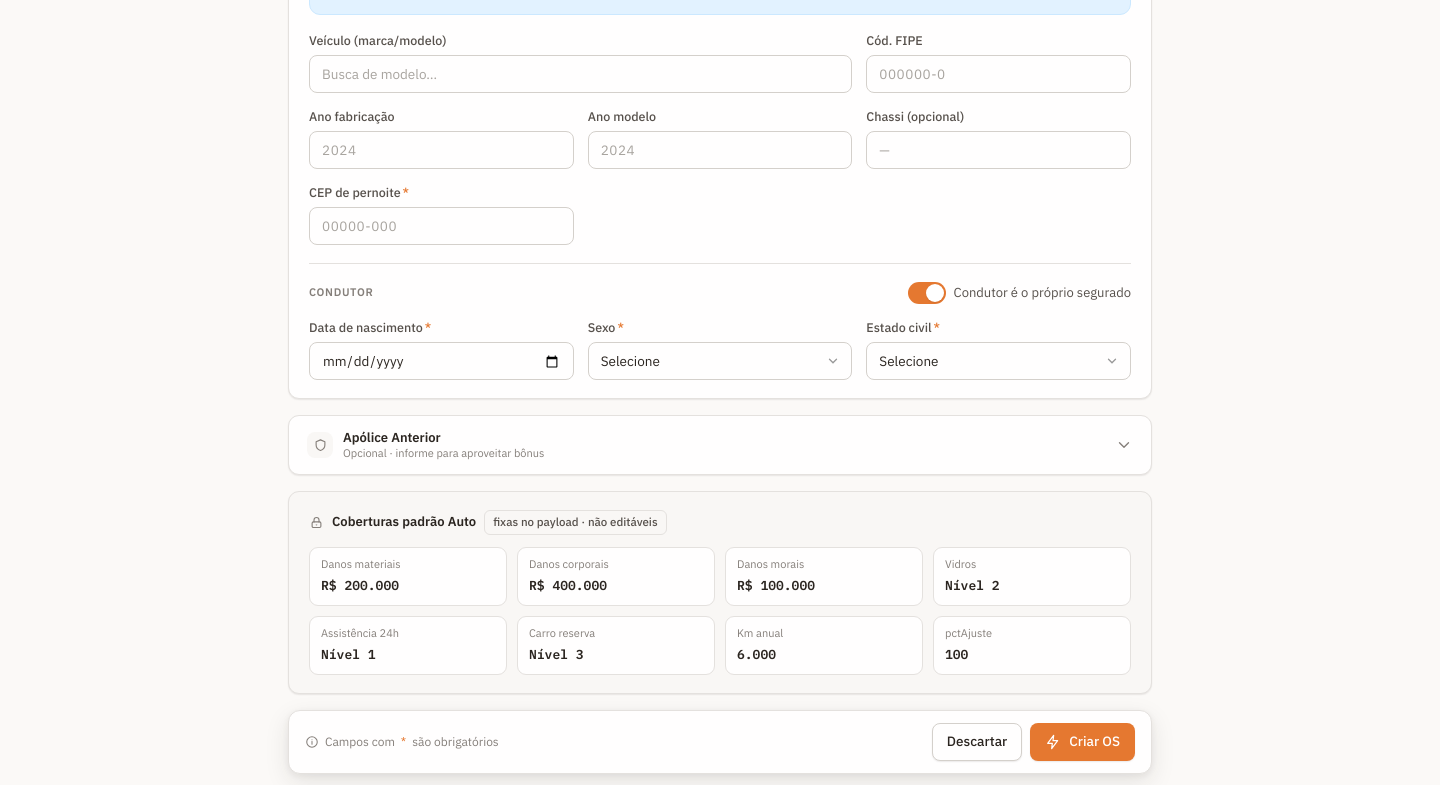
Test case: NovaCotacao › validação bloqueia submit e destaca campos obrigatórios
This screenshot has width=1440, height=785.
(page scrolled)
Click the button "Criar OS" at (1083, 742), box top-left (1030, 723), bottom-right (1135, 761)
(page scrolled)
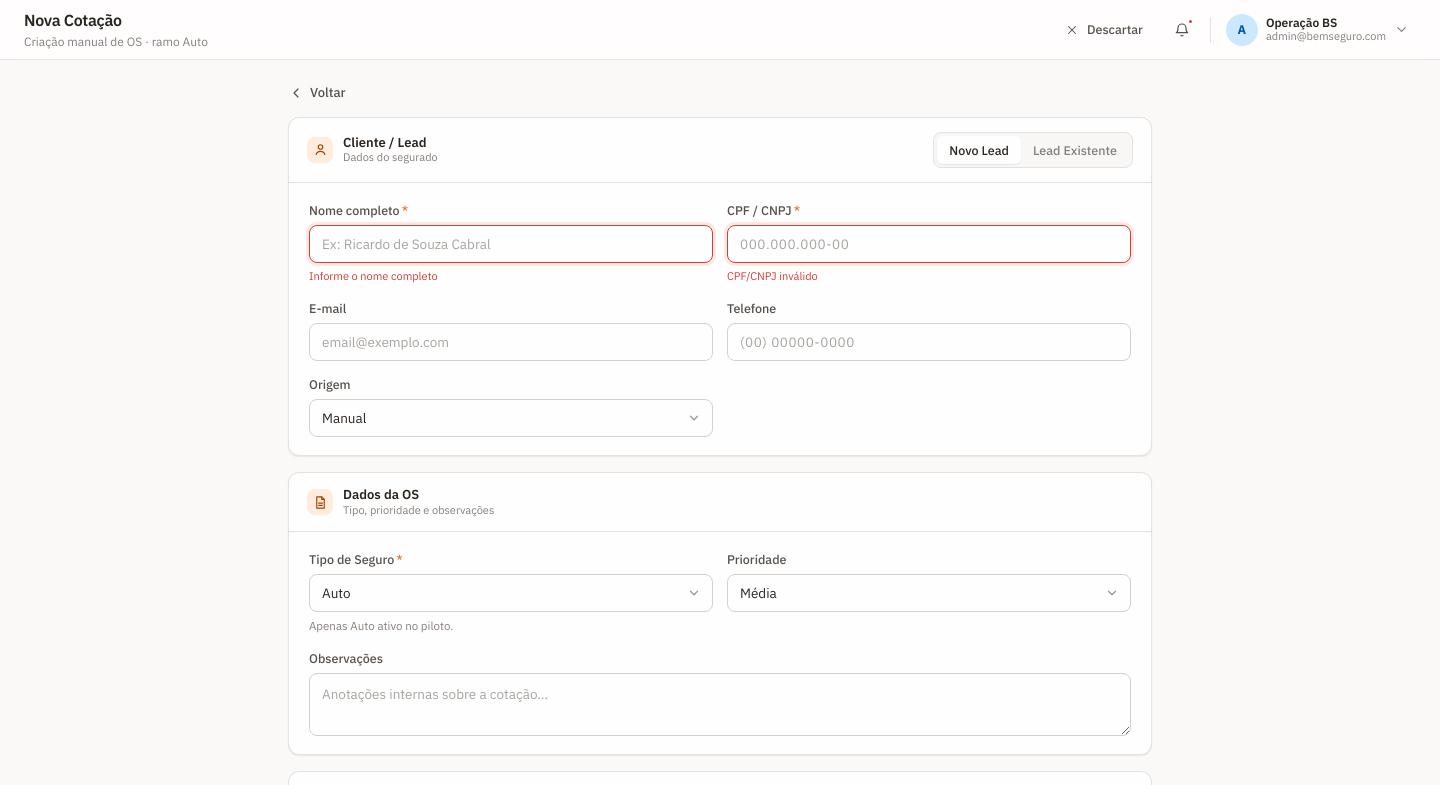
Expected: the text "Informe o nome completo" is shown, top-left (309, 269), bottom-right (438, 283)
Expected: the text "CPF/CNPJ inválido" is shown, top-left (727, 269), bottom-right (818, 283)
